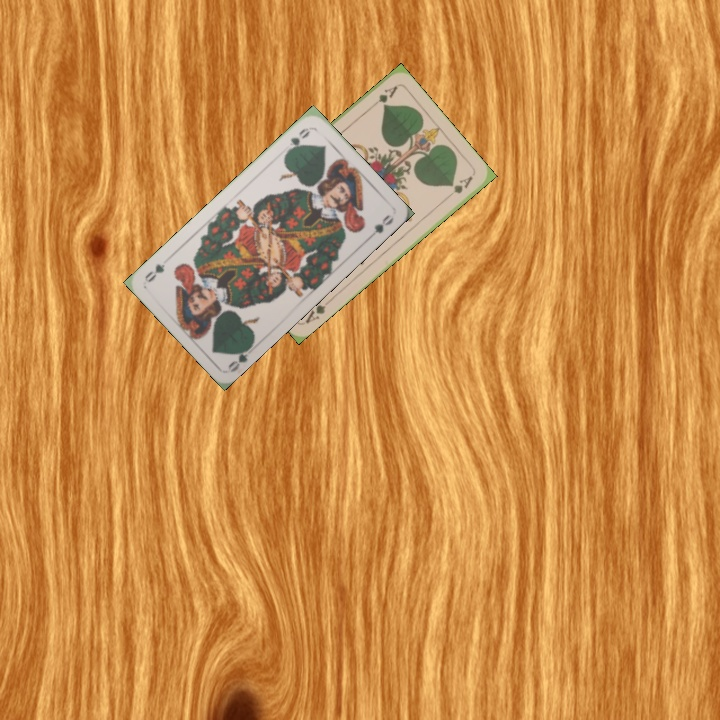GA: (301, 295, 334, 326), (365, 82, 400, 111)
GO: (224, 340, 256, 374), (282, 123, 313, 156)
